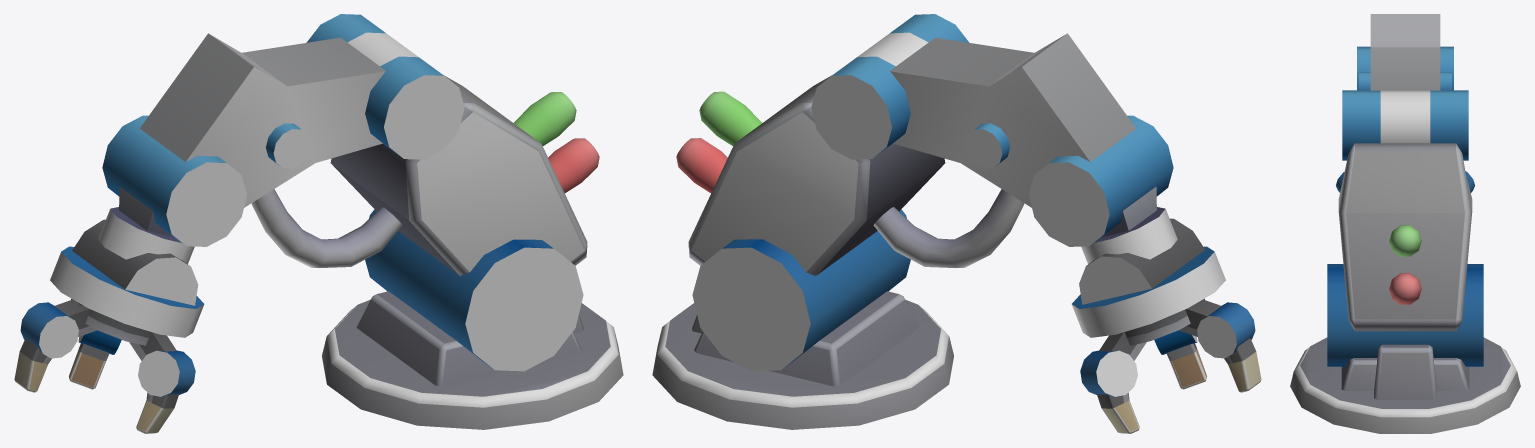
Rendered from GarysLabArm.glb.
3 renders of one model, left to right at view 1: azimuth 30°, elevation 25°; view 2: azimuth 150°, elevation 25°; view 3: azimuth 270°, elevation 25°, orthographic. The views are drawn at different scales.
Parts seen in each view (by area): view 1: GarysLabArm; view 2: GarysLabArm; view 3: GarysLabArm.
Part boxes in pixels (box(x1,y1,x2,y2)): GarysLabArm: box(14, 14, 623, 433); GarysLabArm: box(652, 14, 1261, 433); GarysLabArm: box(1290, 14, 1520, 433).
Bounding box in the file's own units: 1.24 × 0.7617 × 0.5625.
